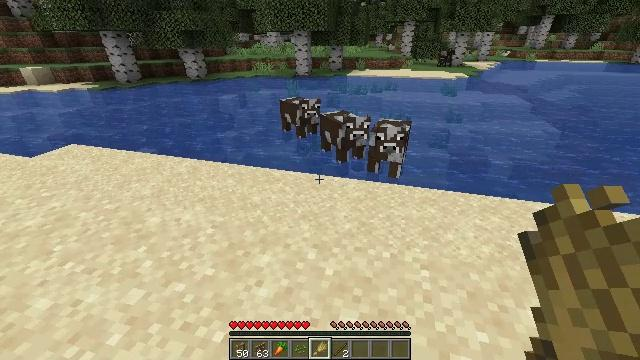cow: (368, 118, 412, 174), (321, 111, 370, 154), (280, 94, 319, 137), (438, 48, 457, 68)
